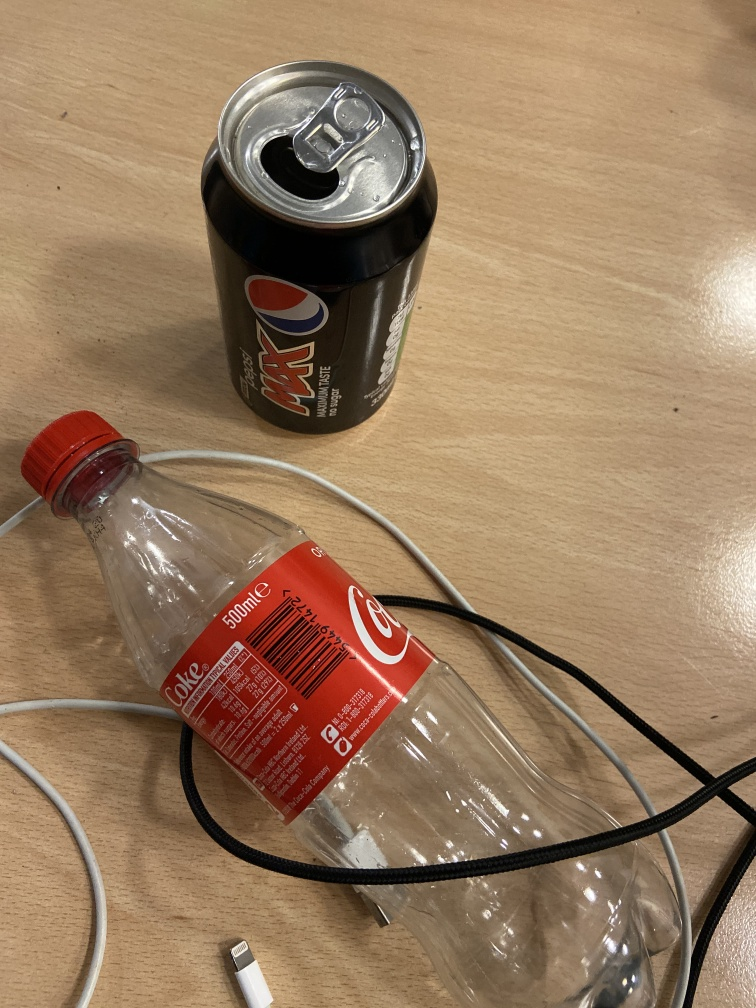bottle_red: (20, 408, 700, 1008)
can_black: (196, 58, 443, 434)
